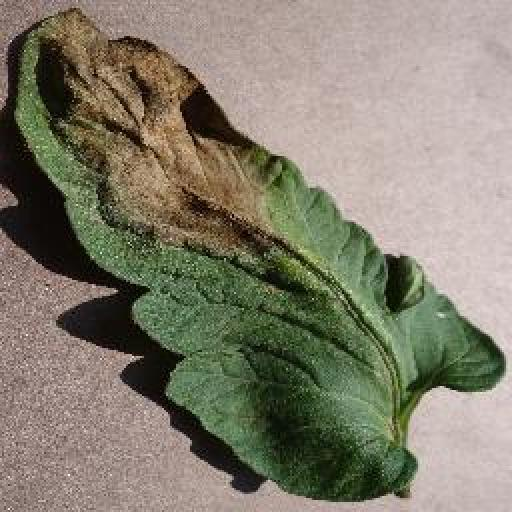disease_tomato: (10, 2, 512, 502)
